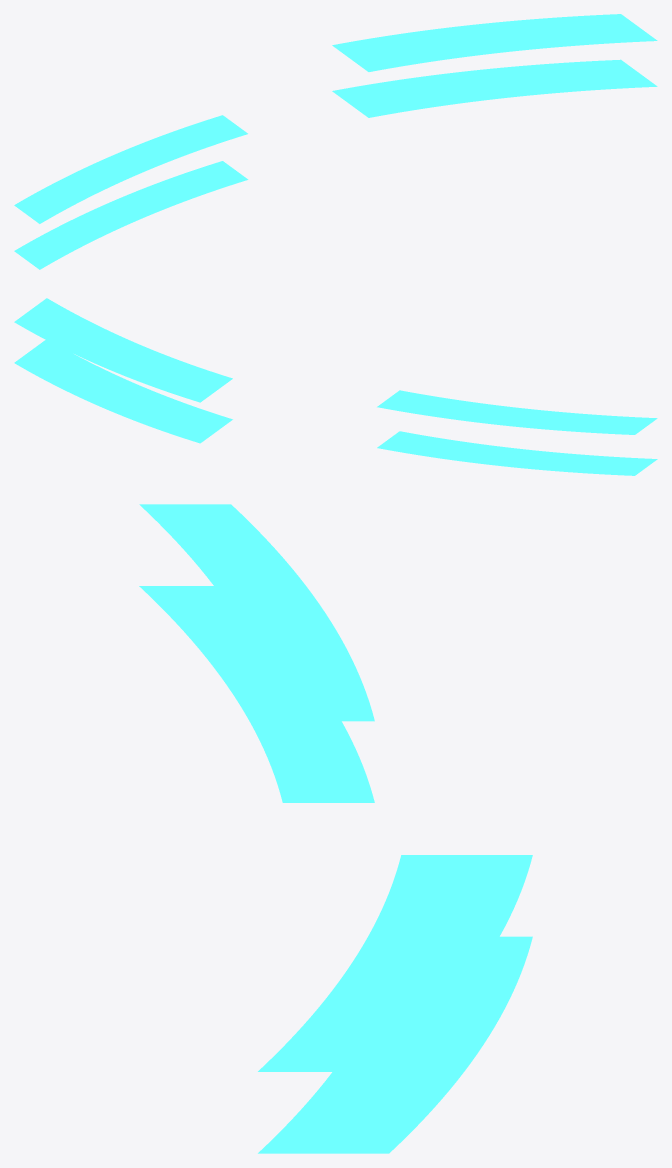
The model's file is zone_bindings.glb.
The picture shows the model from 3 angles, top to bottom: view 1: azimuth 30°, elevation 25°; view 2: azimuth 150°, elevation 25°; view 3: azimuth 270°, elevation 25°; orthographic projection. The views are drawn at different scales.
Visible parts, largest first — view 1: zone_f2_consultation, zone_f1_consultation, zone_f1_waiting, zone_f2_waiting; view 2: zone_f2_consultation, zone_f1_consultation, zone_f2_waiting, zone_f1_waiting; view 3: zone_f2_consultation, zone_f2_waiting, zone_f1_consultation, zone_f1_waiting.
Boxes of the visible parts, x1,y1,x2,y2 form: zone_f2_consultation: (332, 14, 657, 71); zone_f1_consultation: (332, 59, 657, 117); zone_f1_waiting: (14, 161, 248, 269); zone_f2_waiting: (14, 115, 247, 223); zone_f2_consultation: (14, 298, 232, 402); zone_f1_consultation: (14, 340, 232, 443); zone_f2_waiting: (377, 390, 657, 434); zone_f1_waiting: (377, 431, 657, 475); zone_f2_consultation: (258, 855, 532, 1071); zone_f2_waiting: (139, 504, 374, 721); zone_f1_consultation: (258, 936, 532, 1153); zone_f1_waiting: (139, 586, 374, 802).
Bounding box in the file's own units: 102 × 6.85 × 29.92.
